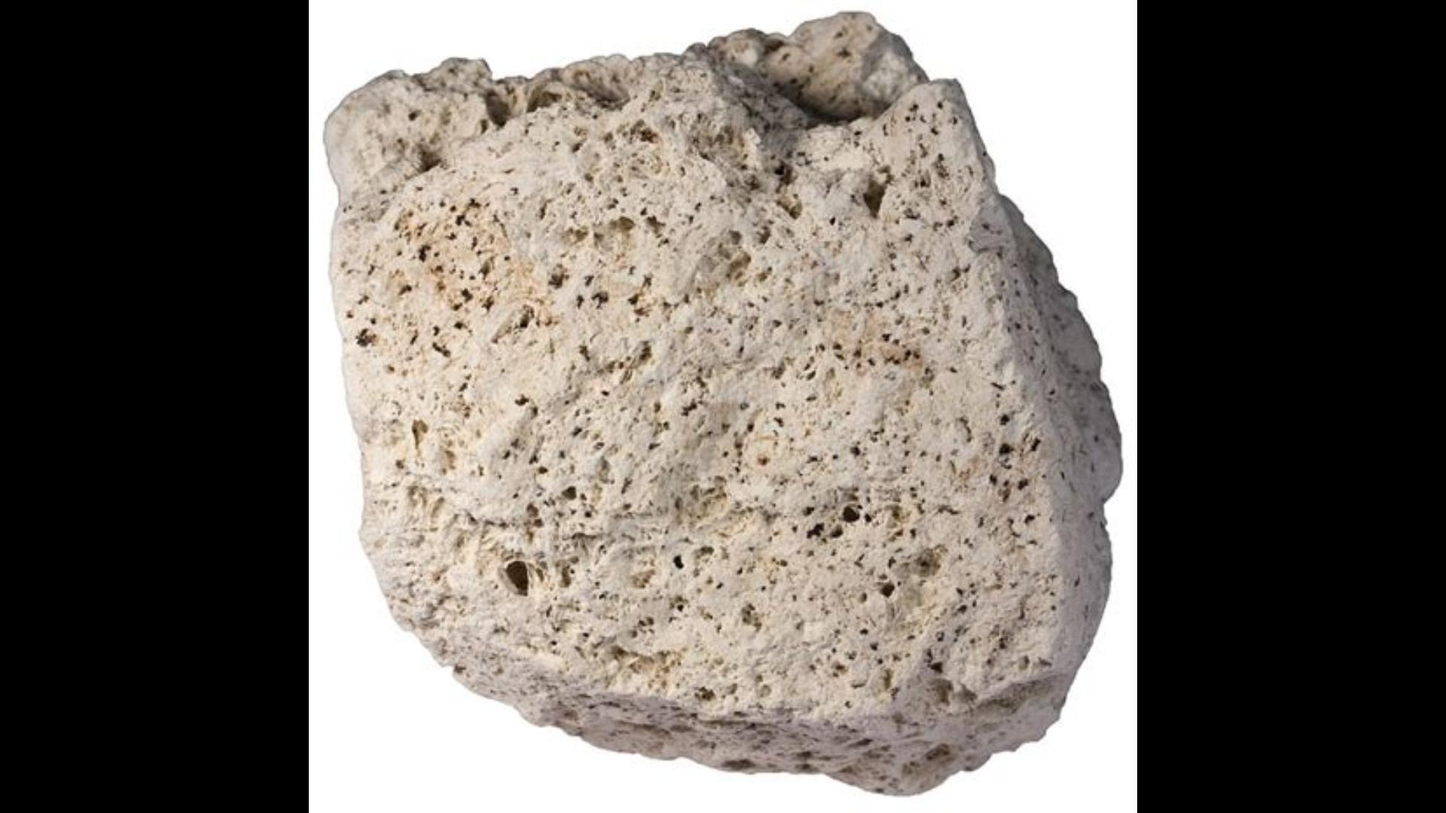rock: (328, 14, 1117, 790)
